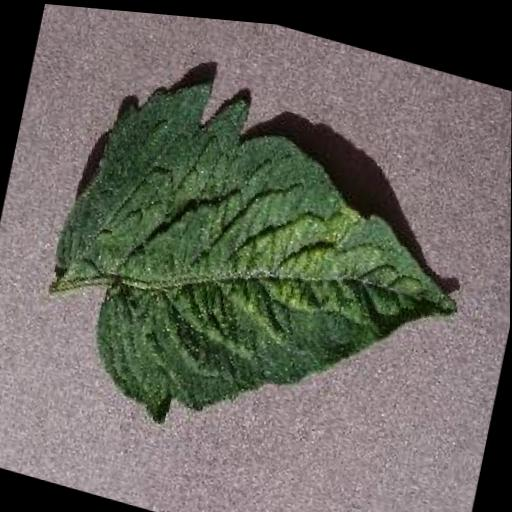Spider Mites: (34, 41, 490, 490)
